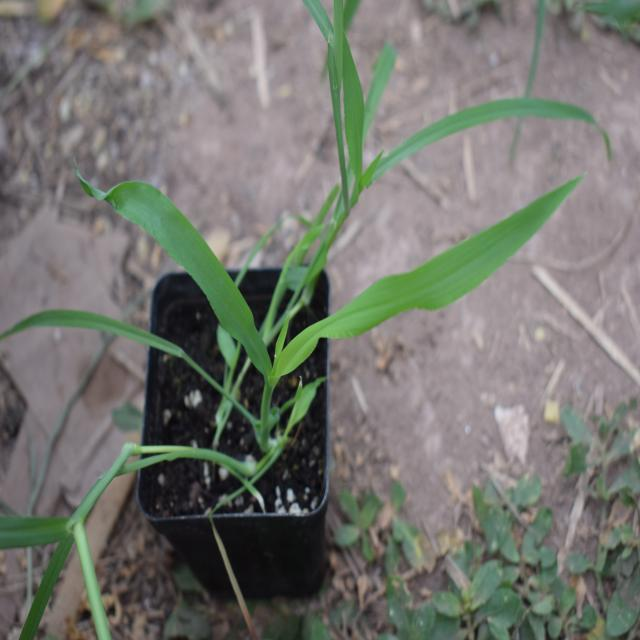crabgrass: (39, 131, 570, 414), (261, 27, 575, 218)
